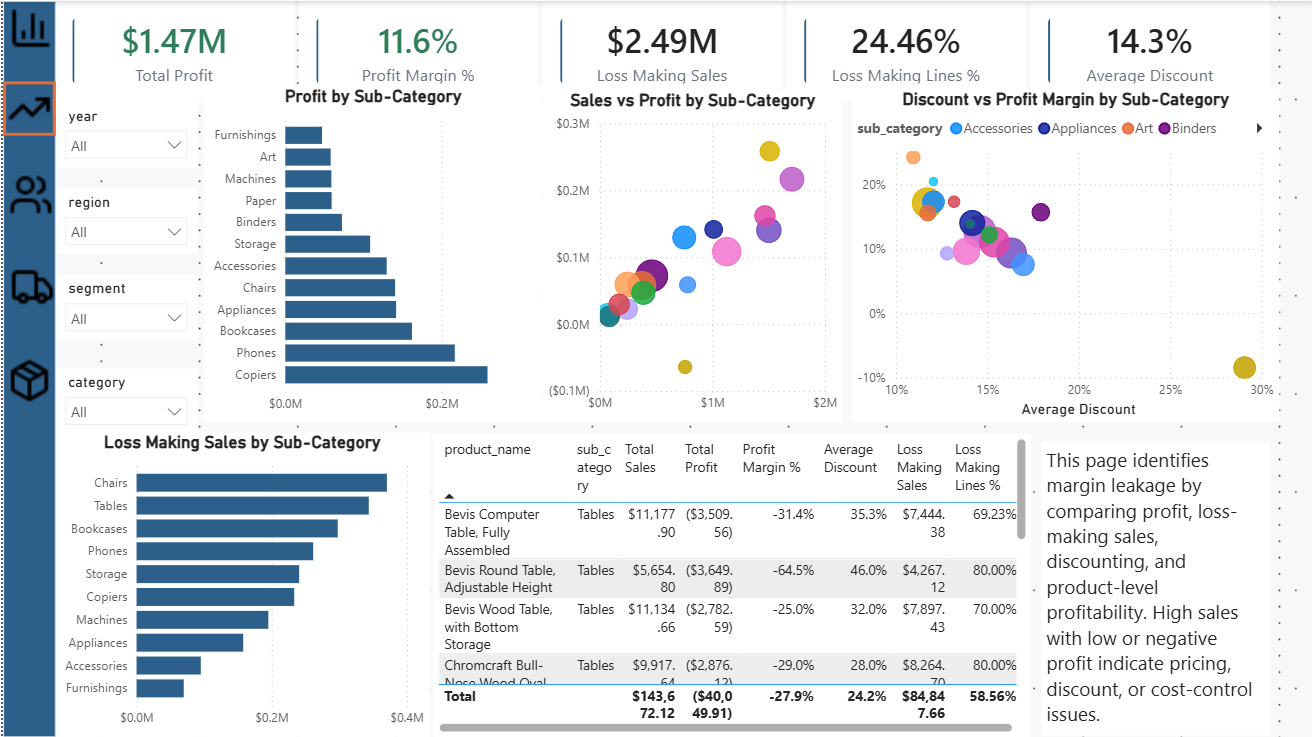

The dashboard page shown, as its layout file describes it:
{"tool":"powerbi","page":{"name":"Profitability Deep Dive","canvas":[1280,720],"ordinal":1},"visuals":[{"type":"shape","box":[0,0,51.7,720],"z":0,"group":"g1"},{"type":"cardVisual","fields":{"Data":["_Measures.Total Profit"]},"box":[51.2,0,233.7,98.8],"z":0},{"type":"actionButton","box":[1.7,0,51.7,53.3],"z":1000,"group":"g1"},{"type":"cardVisual","fields":{"Data":["_Measures.Profit Margin %"]},"box":[289.8,0,233.2,98.4],"z":1000},{"type":"cardVisual","fields":{"Data":["_Measures.Loss Making Sales"]},"box":[528.4,0,233.2,98.4],"z":2000},{"type":"actionButton","box":[0,78.3,51.7,53.3],"z":2000,"group":"g1"},{"type":"cardVisual","fields":{"Data":["_Measures.Loss Making Lines %"]},"box":[766.9,0,233.2,98.4],"z":3000},{"type":"actionButton","box":[1.7,163.3,51.7,53.3],"z":3000,"group":"g1"},{"type":"cardVisual","fields":{"Data":["_Measures.Average Discount"]},"box":[1005.4,0,233.2,98.4],"z":4000},{"type":"actionButton","box":[3.3,253.3,51.7,53.3],"z":4000,"group":"g1"},{"type":"slicer","fields":{"Values":["dim.date.year"]},"box":[51.3,98.4,139,64.2],"z":5000},{"type":"actionButton","box":[0,345,51.7,53.3],"z":5000,"group":"g1"},{"type":"slicer","fields":{"Values":["dim.geography.region"]},"box":[51.3,184,139,64.2],"z":6000},{"type":"slicer","fields":{"Values":["dim.customer.segment"]},"box":[51.3,267.4,139,64.2],"z":7000},{"type":"slicer","fields":{"Values":["dim.product.category"]},"box":[51.3,359.4,139,64.2],"z":8000},{"type":"clusteredBarChart","title":"Profit by Sub-Category","fields":{"Y":["_Measures.Total Profit"],"Category":["dim.product.sub_category"]},"box":[196.5,82.6,331.4,329.1],"z":9000},{"type":"scatterChart","title":"Sales vs Profit by Sub-Category","fields":{"X":["_Measures.Total Sales"],"Y":["_Measures.Total Profit"],"Size":["_Measures.Total Quantity"],"Series":["dim.product.sub_category"]},"box":[527.9,87.2,293,324.4],"z":10000},{"type":"scatterChart","title":"Discount vs Profit Margin by Sub-Category","fields":{"X":["_Measures.Average Discount"],"Y":["_Measures.Profit Margin %"],"Size":["_Measures.Total Sales"],"Series":["dim.product.sub_category"]},"box":[830.2,86,417.4,325.6],"z":11000},{"type":"clusteredBarChart","title":"Loss Making Sales by Sub-Category","fields":{"Category":["dim.product.sub_category"],"Y":["_Measures.Loss Making Sales"]},"box":[51.2,422.1,366.3,297.7],"z":12000},{"type":"tableEx","fields":{"Values":["dim.product.product_name","dim.product.sub_category","_Measures.Total Sales","_Measures.Total Profit","_Measures.Profit Margin %","_Measures.Average Discount","_Measures.Loss Making Sales","_Measures.Loss Making Lines %"]},"box":[420,423,585,297],"z":13000},{"type":"textbox","box":[1015,431,223,288],"z":14000},{"type":"group","id":"g1","title":"Group 1","box":[0,0,55,720],"z":14001}]}

Visuals, with their boxes on the page's 1280x720 design canvas (x1, y1, x2, y2). These are canvas units, not pixel positions in the 1312x737 screenshot, which may show the page scaled, cropped or inside an application window:
shape: 0:0:52:720
cardVisual - _Measures.Total Profit: 51:0:285:99
actionButton: 2:0:53:53
cardVisual - _Measures.Profit Margin %: 290:0:523:98
cardVisual - _Measures.Loss Making Sales: 528:0:762:98
actionButton: 0:78:52:132
cardVisual - _Measures.Loss Making Lines %: 767:0:1000:98
actionButton: 2:163:53:217
cardVisual - _Measures.Average Discount: 1005:0:1239:98
actionButton: 3:253:55:307
slicer - dim.date.year: 51:98:190:163
actionButton: 0:345:52:398
slicer - dim.geography.region: 51:184:190:248
slicer - dim.customer.segment: 51:267:190:332
slicer - dim.product.category: 51:359:190:424
"Profit by Sub-Category" clusteredBarChart: 196:83:528:412
"Sales vs Profit by Sub-Category" scatterChart: 528:87:821:412
"Discount vs Profit Margin by Sub-Category" scatterChart: 830:86:1248:412
"Loss Making Sales by Sub-Category" clusteredBarChart: 51:422:418:720
tableEx - dim.product.product_name x dim.product.sub_category: 420:423:1005:720
textbox: 1015:431:1238:719
"Group 1" group: 0:0:55:720
